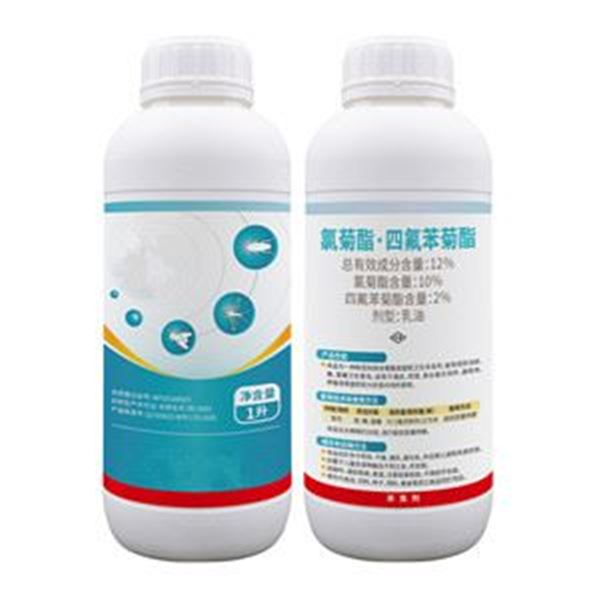Insecticide: (96, 28, 295, 567), (301, 32, 500, 569)
